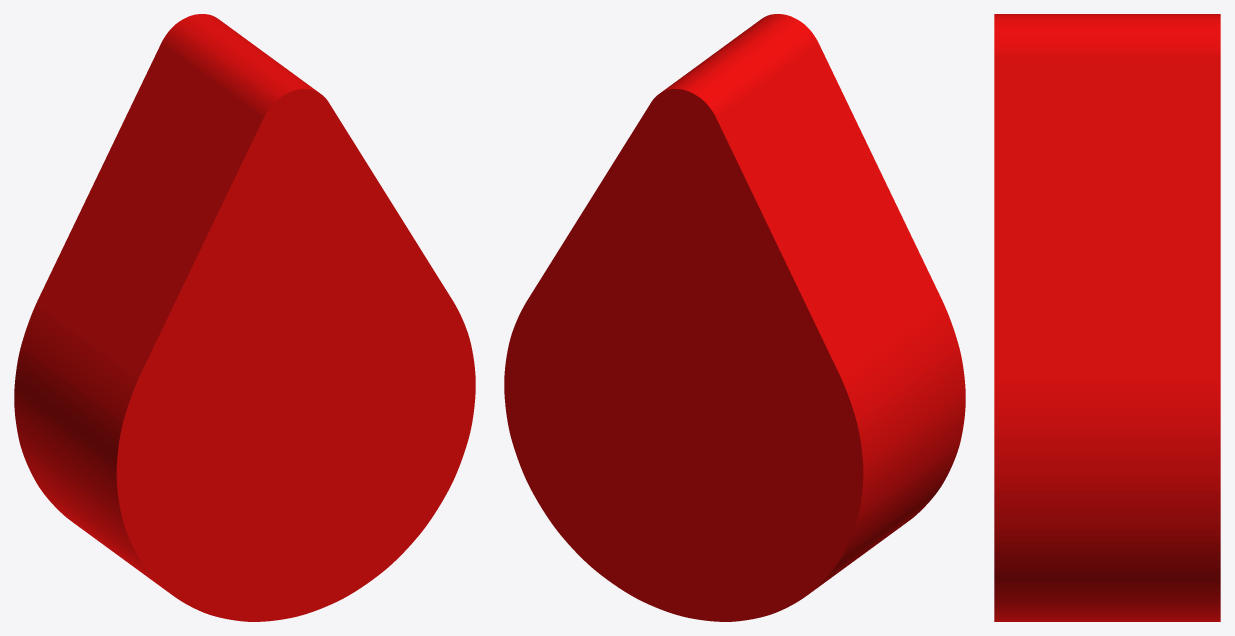
3 renders of one model, left to right at view 1: azimuth 30°, elevation 25°; view 2: azimuth 150°, elevation 25°; view 3: azimuth 270°, elevation 25°, orthographic. The views are drawn at different scales.
Visible parts, largest first — view 1: U+1FA78_layer00_obj00; view 2: U+1FA78_layer00_obj00; view 3: U+1FA78_layer00_obj00.
Part boxes in pixels (x1,y1,x2,y2): U+1FA78_layer00_obj00: [14, 14, 475, 621]; U+1FA78_layer00_obj00: [504, 14, 965, 621]; U+1FA78_layer00_obj00: [994, 14, 1220, 621].
Bounding box in the file's own units: 0.405 × 0.5677 × 0.2.
